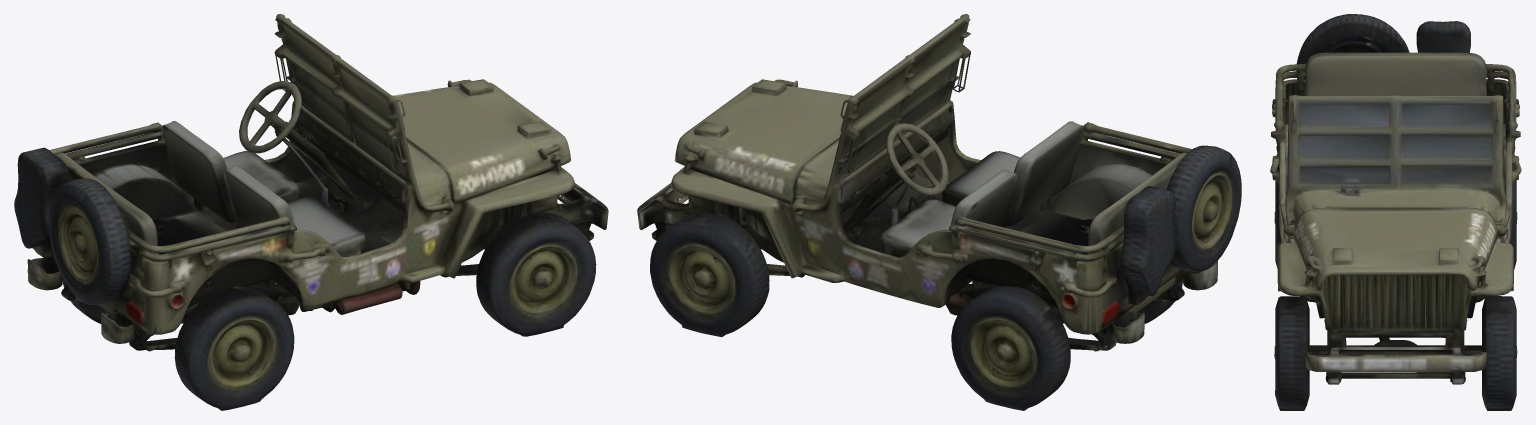
The model's file is veh_jeep.glb.
The picture shows the model from 3 angles, left to right: view 1: azimuth 30°, elevation 25°; view 2: azimuth 150°, elevation 25°; view 3: azimuth 270°, elevation 25°; orthographic projection. The views are drawn at different scales.
Visible parts, largest first — view 1: node_0; view 2: node_0; view 3: node_0.
Part boxes in pixels (x1,y1,x2,y2): node_0: (14,14,608,410); node_0: (637,14,1241,410); node_0: (1270,14,1521,410).
Bounding box in the file's own units: 1.13 × 0.5597 × 0.5256.
Materials: 1 (1 with a texture image).
